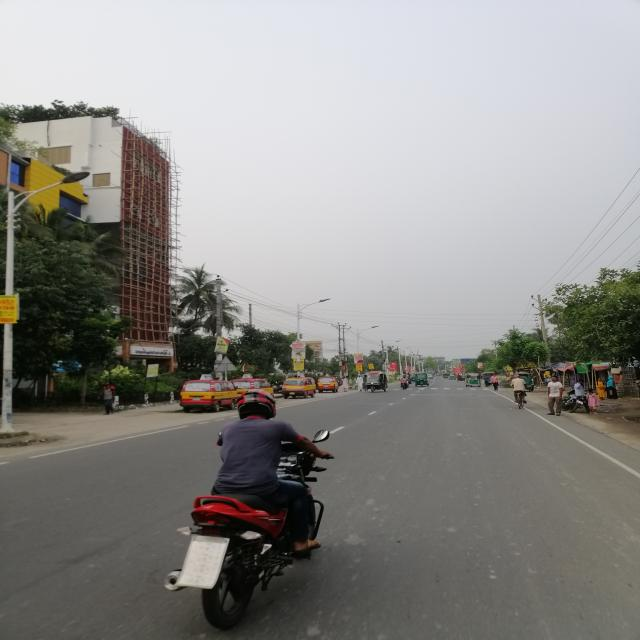Motorbike: (164, 429, 347, 640)
